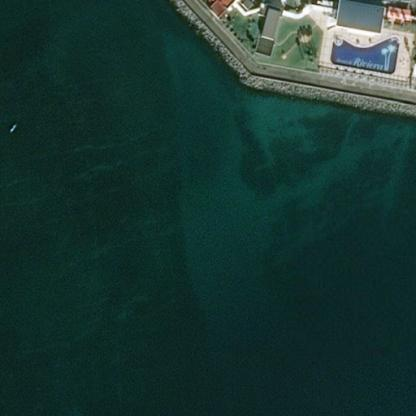ship: (4, 117, 20, 136)
